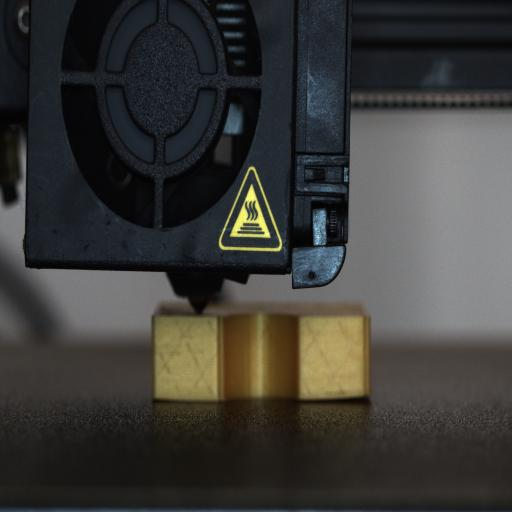warp: (330, 381, 376, 405)
